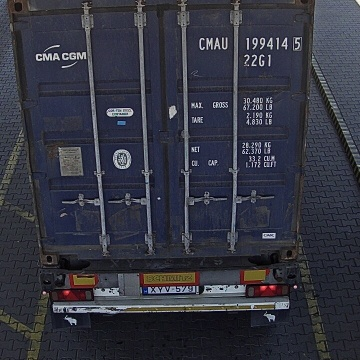serial_id: (199, 37, 302, 49)
